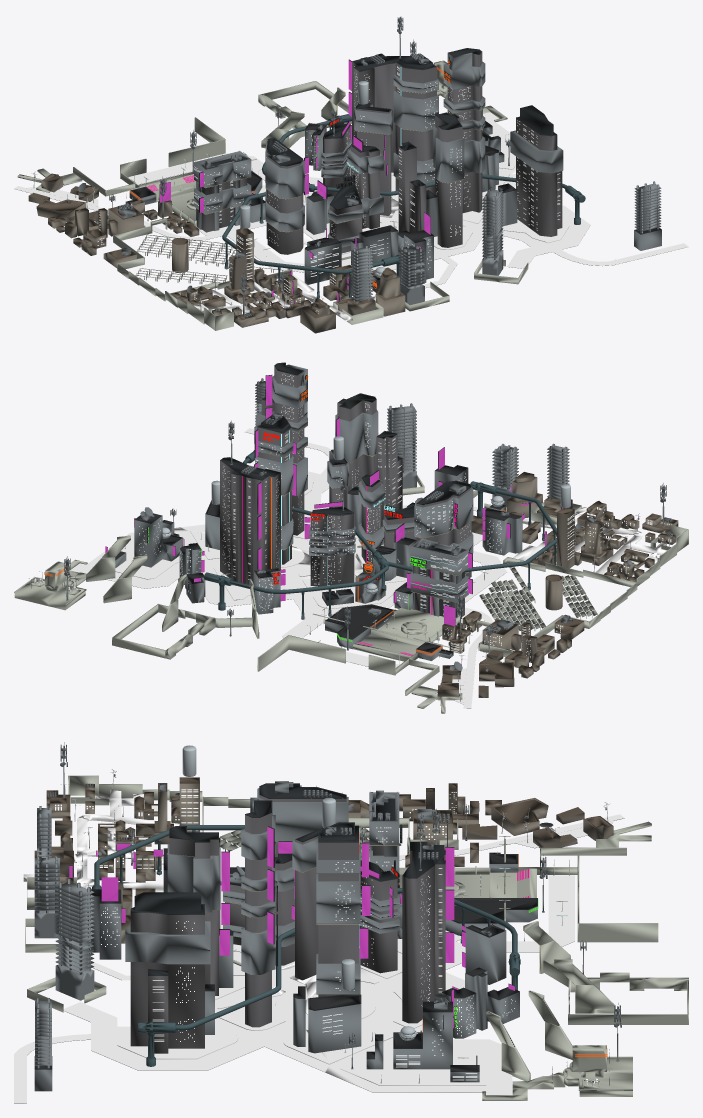
Rendered from CuberpunkCityWithKaws.glb.
The picture shows the model from 3 angles, top to bottom: view 1: azimuth 30°, elevation 25°; view 2: azimuth 150°, elevation 25°; view 3: azimuth 270°, elevation 25°; orthographic projection. The views are drawn at different scales.
Parts seen in each view (by area): view 1: Cuberpunk2077.001; view 2: Cuberpunk2077.001; view 3: Cuberpunk2077.001.
Part boxes in pixels (box(x1,y1,x2,y2)): Cuberpunk2077.001: box(14, 16, 688, 333); Cuberpunk2077.001: box(14, 362, 688, 713); Cuberpunk2077.001: box(14, 742, 688, 1103).
Bounding box in the file's own units: 20.43 × 6.92 × 19.65.
Materials: 30 (4 with a texture image).
